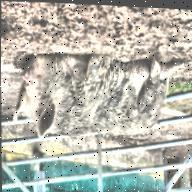boar: (12, 50, 185, 148)
